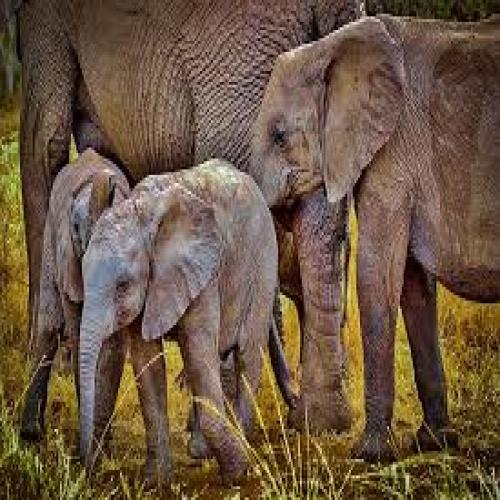asian_elephant-endangered: (247, 17, 500, 460), (74, 161, 279, 476), (20, 143, 136, 464)
